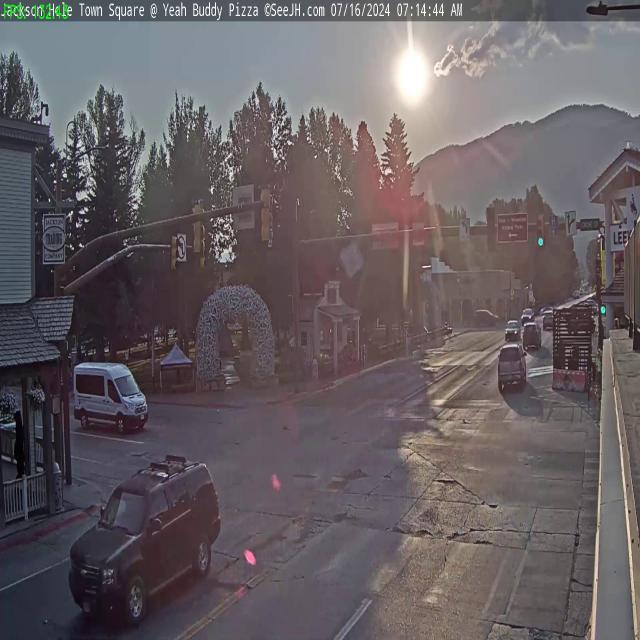person: (521, 308, 534, 322)
pickup: (506, 319, 520, 338)
sedan: (66, 453, 224, 622), (522, 322, 542, 347), (475, 309, 498, 325), (543, 311, 554, 328)
suv: (258, 186, 274, 243), (190, 201, 203, 251), (486, 208, 496, 252), (534, 212, 544, 246), (170, 234, 178, 273), (201, 235, 207, 270)
traffic light: (498, 343, 526, 387)
truck: (74, 358, 147, 436)
